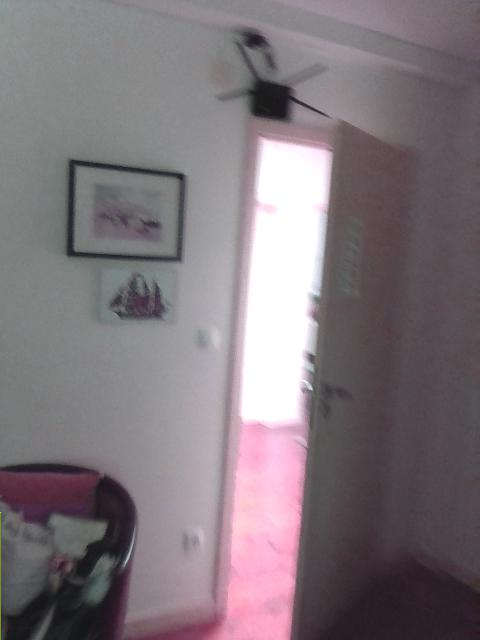semi_door: (212, 110, 412, 639)
